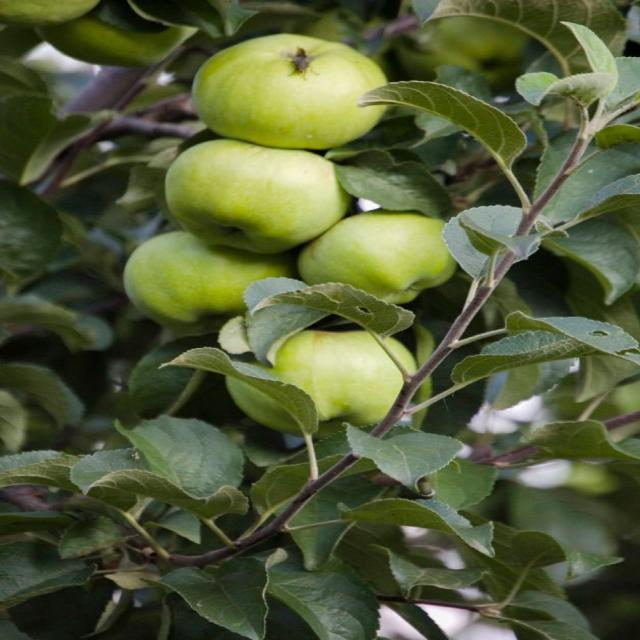Green Apple: (179, 39, 386, 143), (159, 129, 345, 240), (233, 322, 409, 430), (121, 225, 288, 332), (308, 201, 463, 305), (48, 7, 189, 64), (1, 1, 111, 22)
